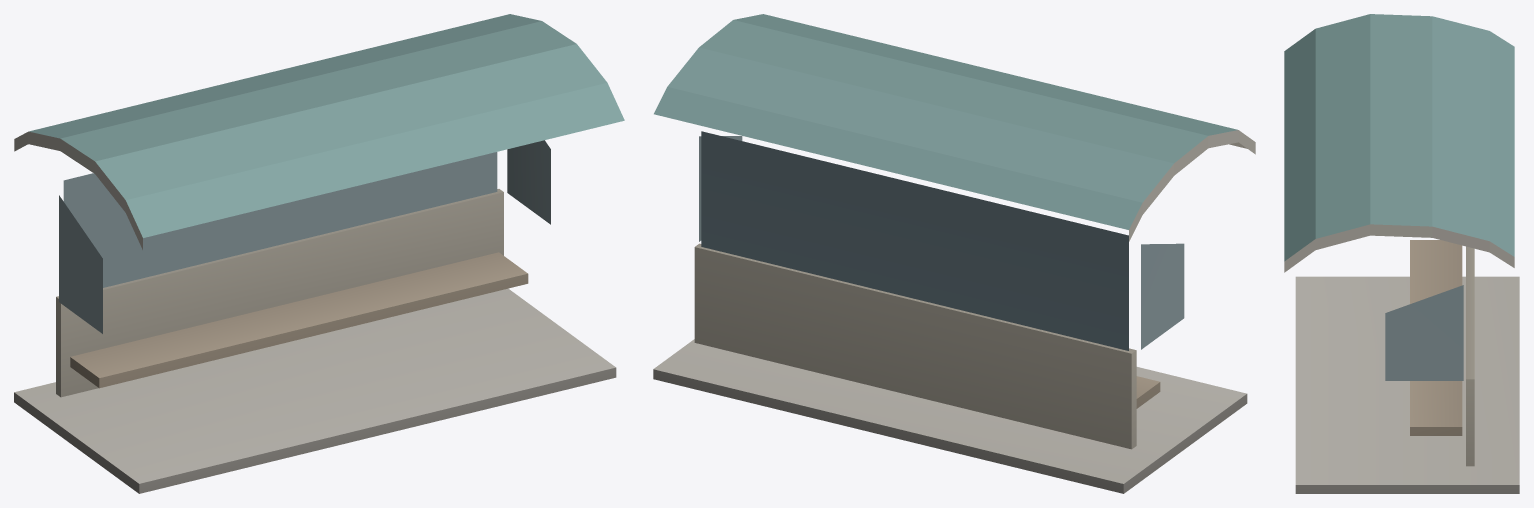
The model's file is shelter.lod2.glb.
3 renders of one model, left to right at view 1: azimuth 30°, elevation 25°; view 2: azimuth 150°, elevation 25°; view 3: azimuth 270°, elevation 25°, orthographic. The views are drawn at different scales.
Bounding box in the file's own units: 4 × 2.4 × 1.89.
